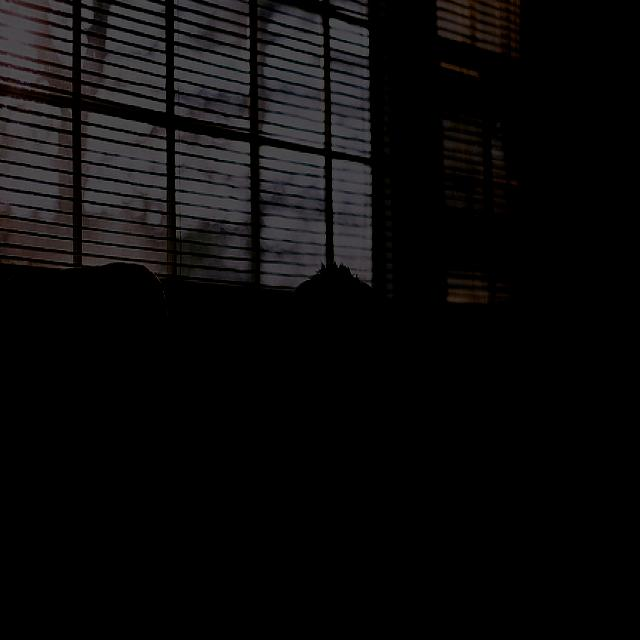Dog: (185, 213, 495, 545)
